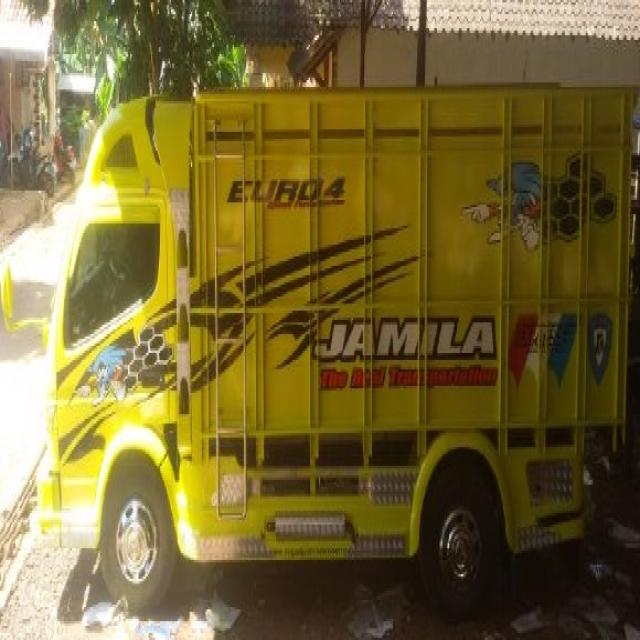car: (2, 75, 639, 614)
